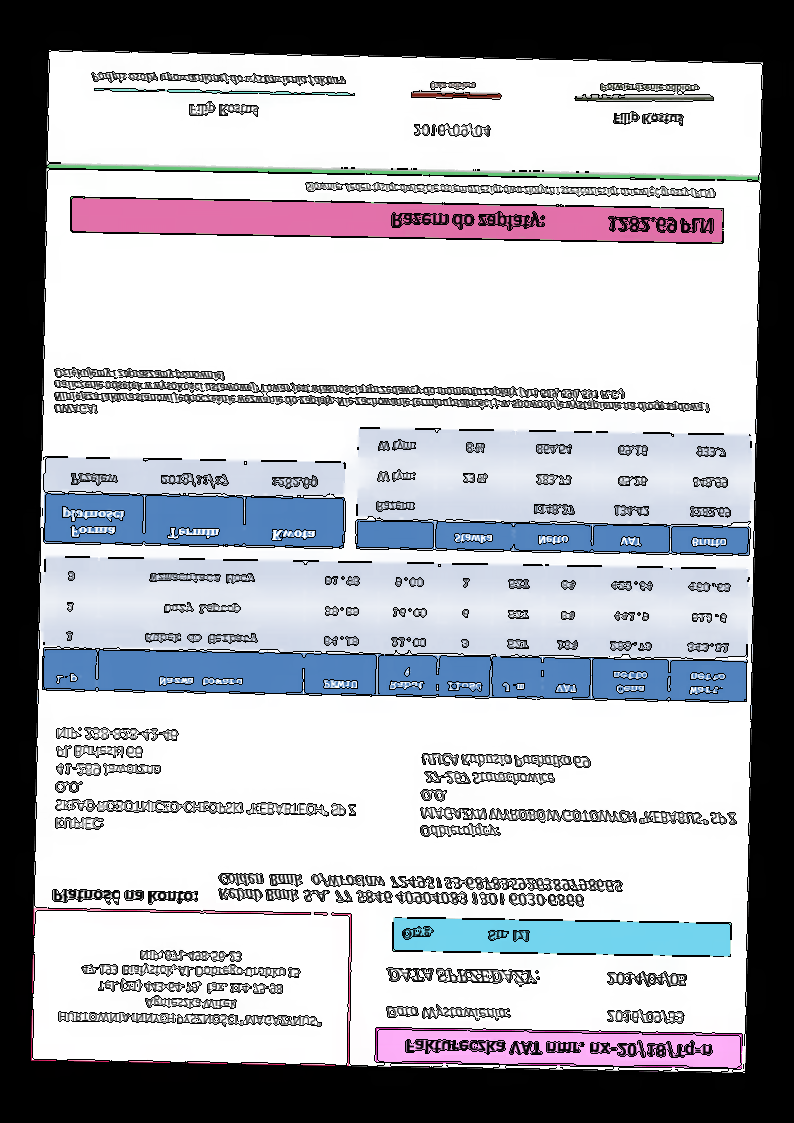Table: (41, 553, 751, 706), (354, 424, 753, 557), (42, 455, 346, 549)
TextBox: (50, 365, 713, 430), (51, 722, 360, 839), (417, 748, 742, 846), (53, 944, 325, 1030), (215, 868, 626, 910), (388, 207, 716, 241), (301, 179, 716, 205), (400, 1035, 714, 1061), (88, 68, 352, 89), (383, 963, 541, 990), (46, 884, 200, 909), (397, 923, 532, 948), (381, 1003, 512, 1027), (603, 968, 690, 992), (411, 120, 495, 144), (598, 80, 701, 96), (609, 110, 689, 130), (184, 100, 260, 121), (603, 1008, 686, 1026), (424, 78, 480, 94)
